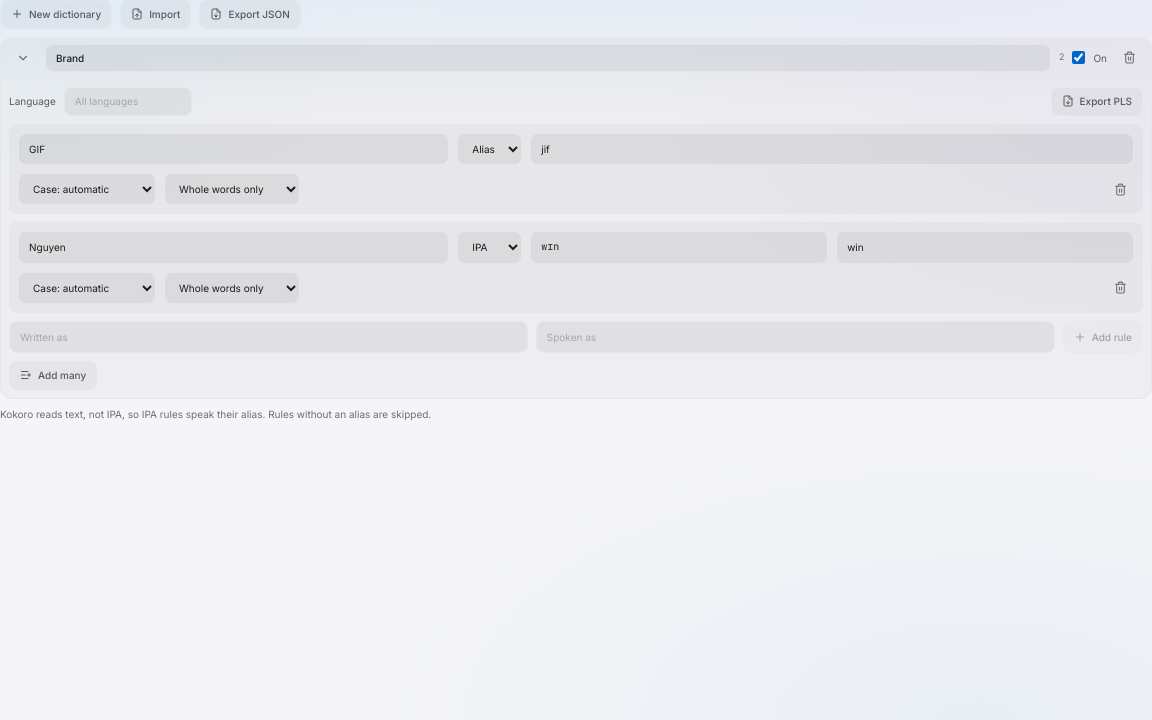
Test: PronunciationDictionaryEditor › drops an unfinished row on delete and keeps later rows in order
Clear the field named "Rule 1 spoken replacement" at coordinates (832, 149), box left=530, top=132, right=1134, bottom=165
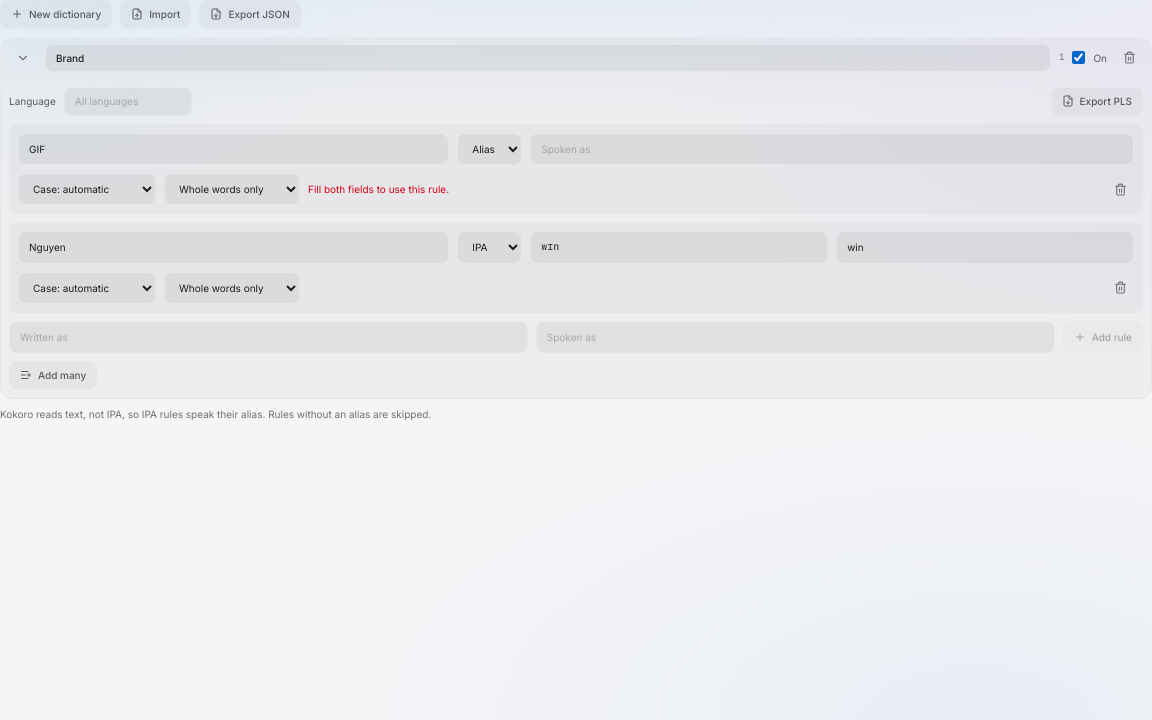
Click the button named "Delete Rule 1" at coordinates (1120, 189), box left=1106, top=175, right=1134, bottom=203
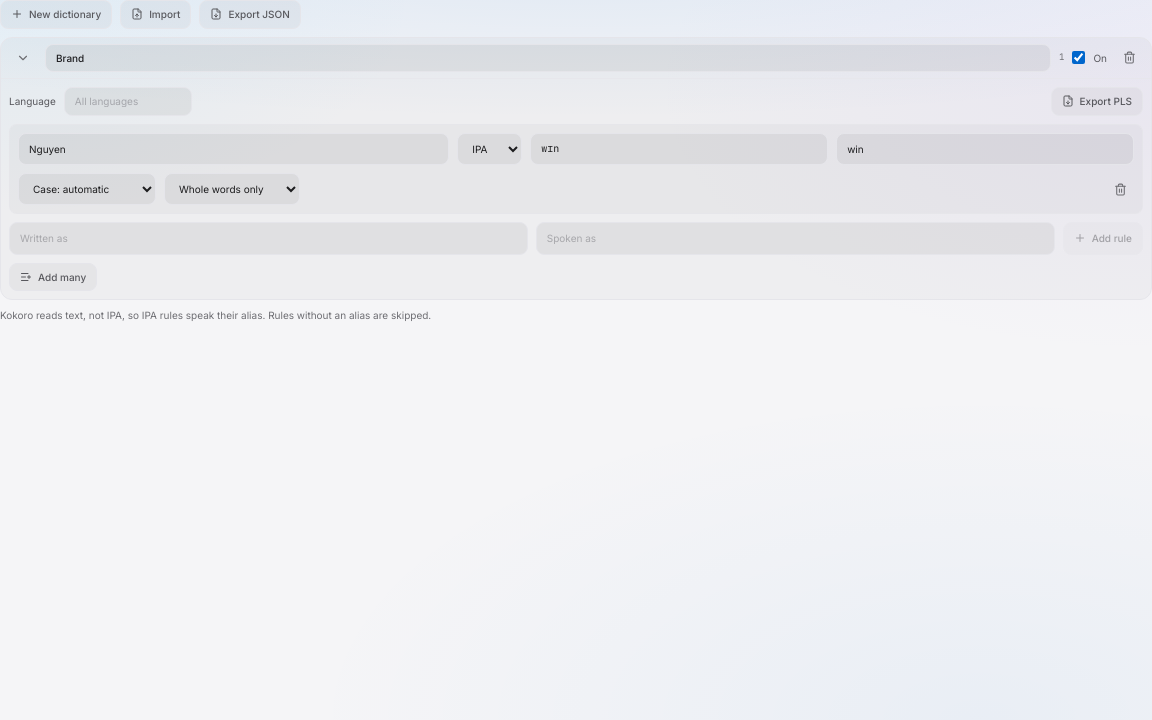
Expected: the field named "Rule 1 written word" holds "Nguyen", left=18, top=132, right=449, bottom=165
